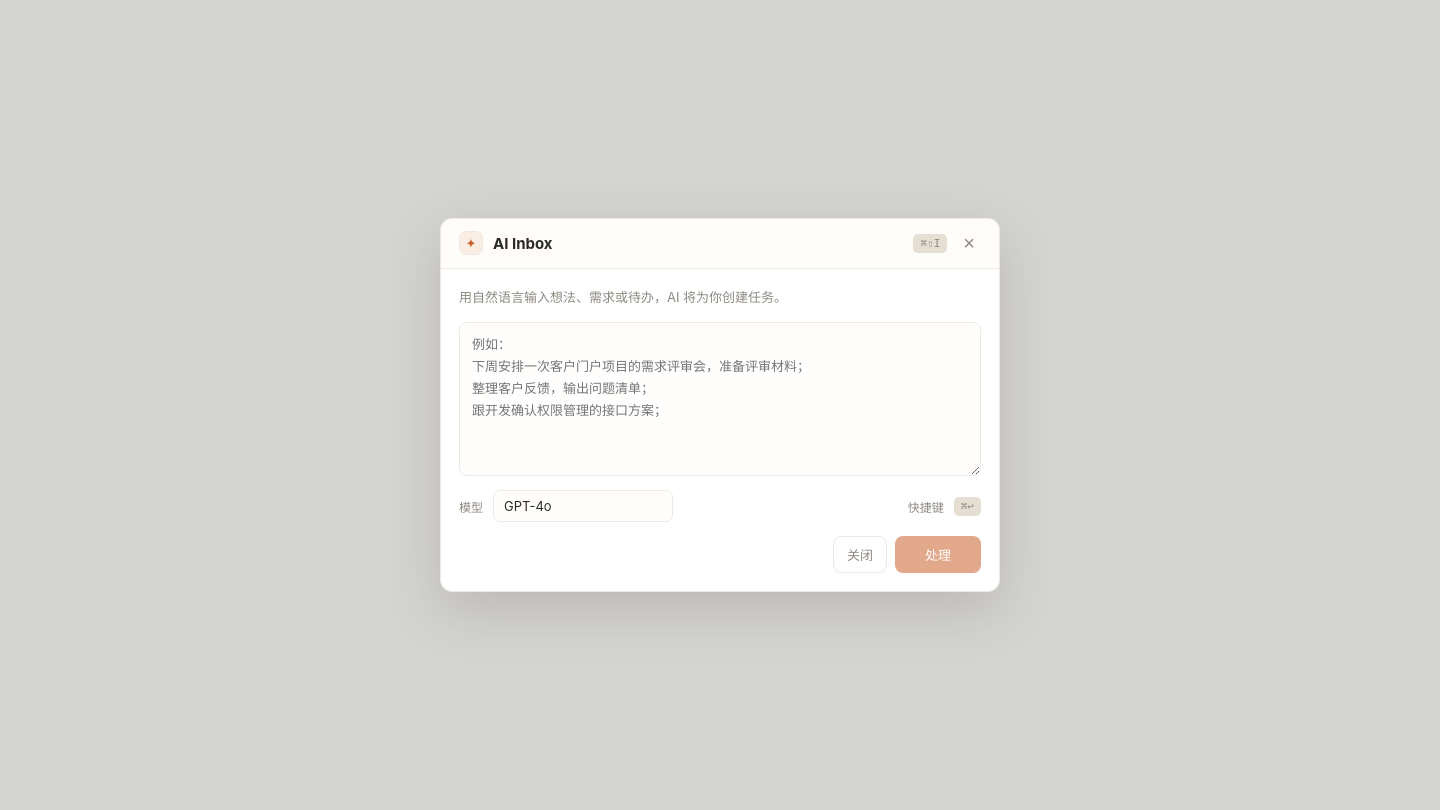
Test: AiQuickInbox › submits natural language and displays result summary
This screenshot has width=1440, height=810.
Replace the text in the text box with placeholder "下周安排一次客户门户项目" with "整理客户反馈清单" at (720, 399), box 459,322 -> 981,476
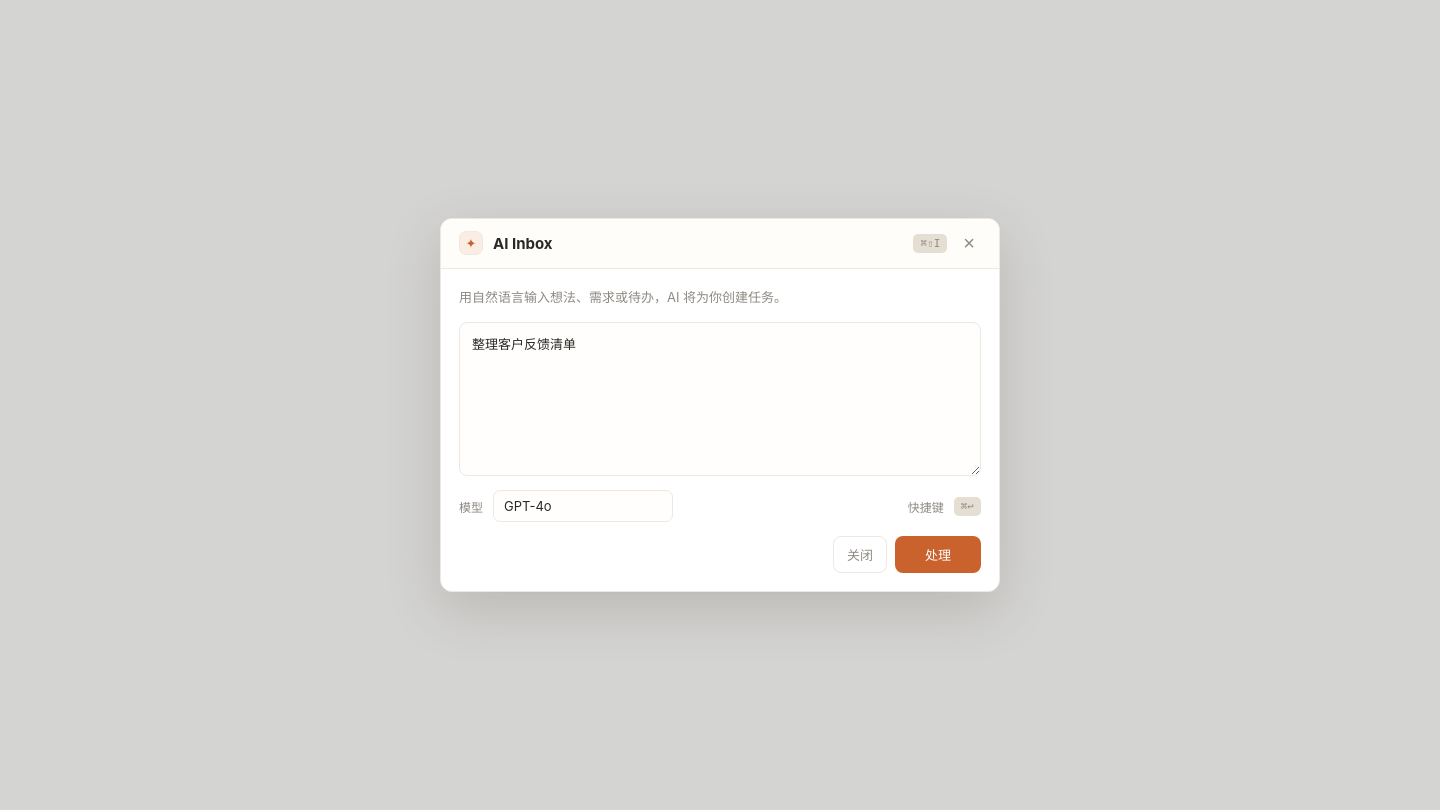
Click the button "处理" at (938, 555), box 895,536 -> 981,573
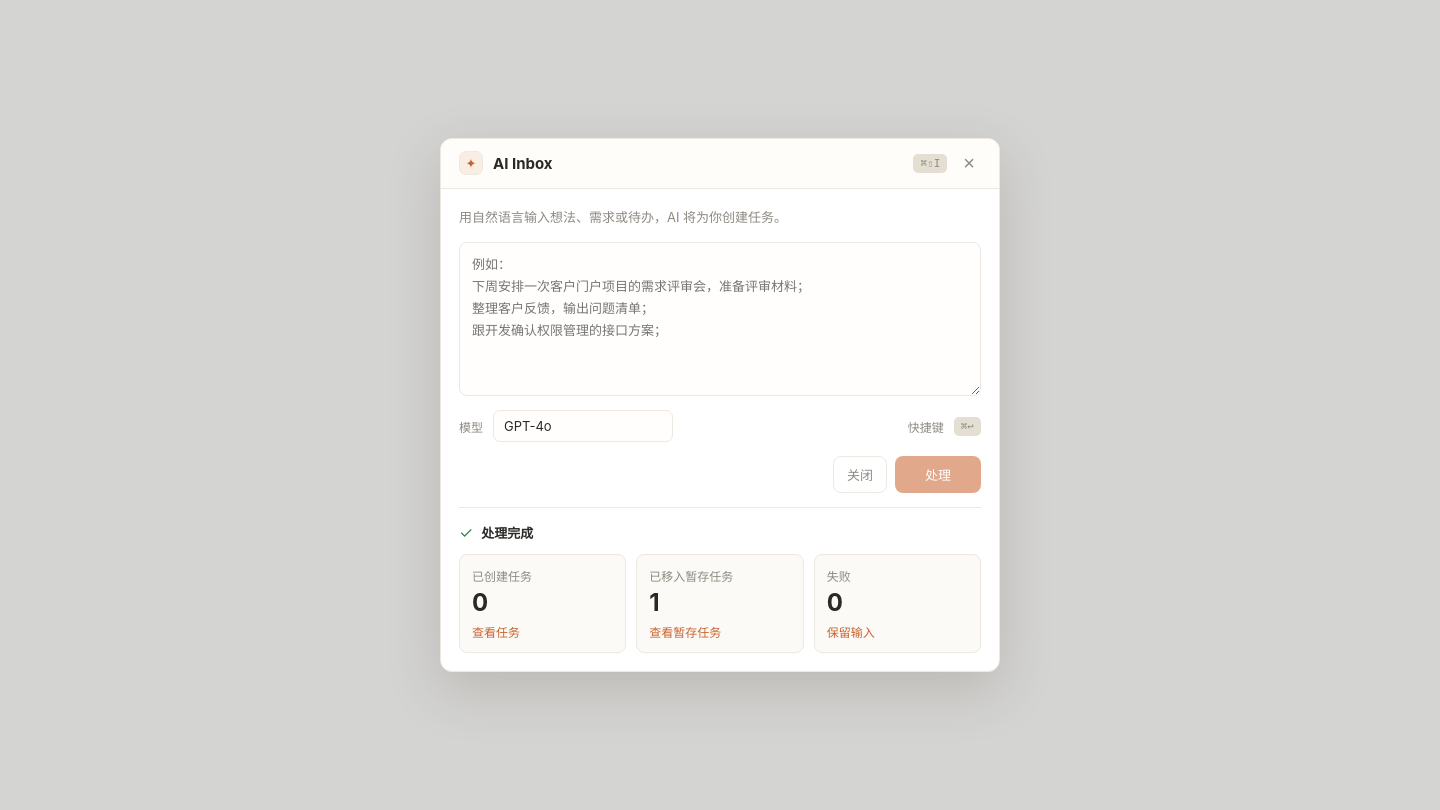
Result: the text "处理完成" is shown at 481,523 -> 533,542
Result: the text "已移入暂存任务" is shown at 649,569 -> 733,584
